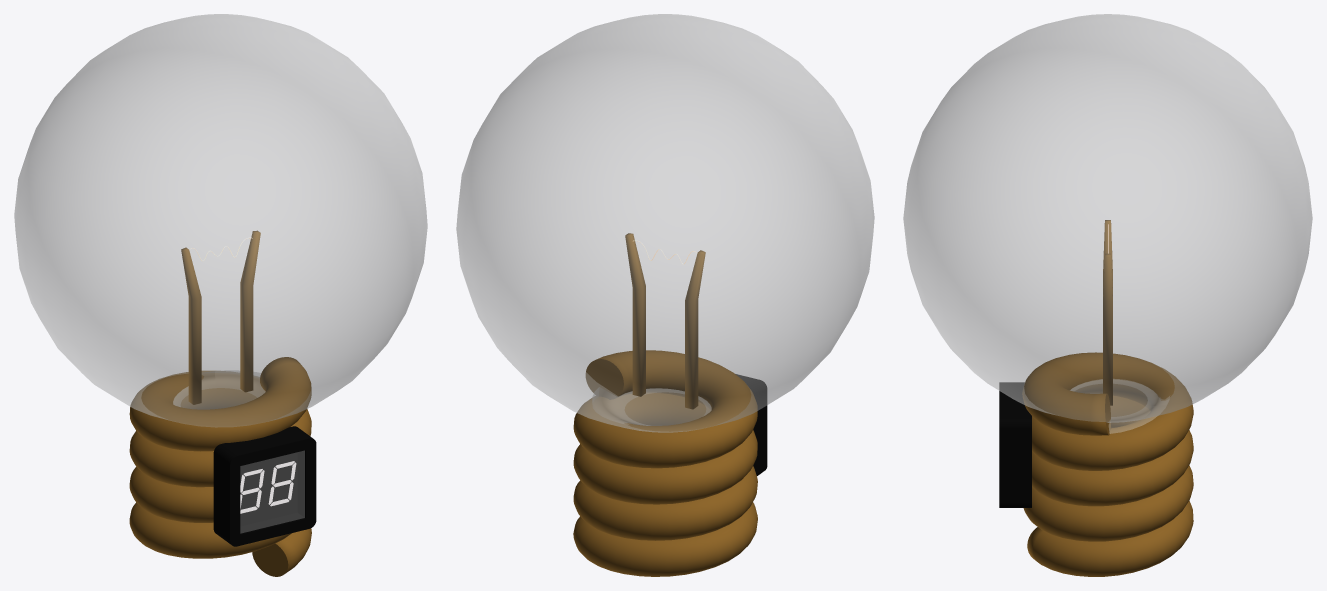
The model's file is light_bulb.glb.
3 renders of one model, left to right at view 1: azimuth 30°, elevation 25°; view 2: azimuth 150°, elevation 25°; view 3: azimuth 270°, elevation 25°, orthographic. The views are drawn at different scales.
Parts seen in each view (by area): view 1: bulb, bulbHolder, temperature_control, cylinders, Text; view 2: bulb, bulbHolder, cylinders, temperature_control; view 3: bulb, bulbHolder, temperature_control, cylinders.
Boxes of the visible parts, box(x1,y1,x2,y2) form: bulb: box(14, 14, 427, 427); bulbHolder: box(129, 357, 311, 576); temperature_control: box(213, 426, 316, 546); cylinders: box(181, 230, 260, 404); Text: box(240, 461, 296, 513); bulb: box(456, 14, 874, 432); bulbHolder: box(573, 350, 757, 576); cylinders: box(625, 233, 705, 409); temperature_control: box(736, 374, 767, 475); bulb: box(903, 14, 1312, 433); bulbHolder: box(1022, 352, 1193, 576); temperature_control: box(999, 382, 1031, 507); cylinders: box(1103, 220, 1112, 405).
Size of the model in its own units: 3.7 by 5.18 by 3.7.
